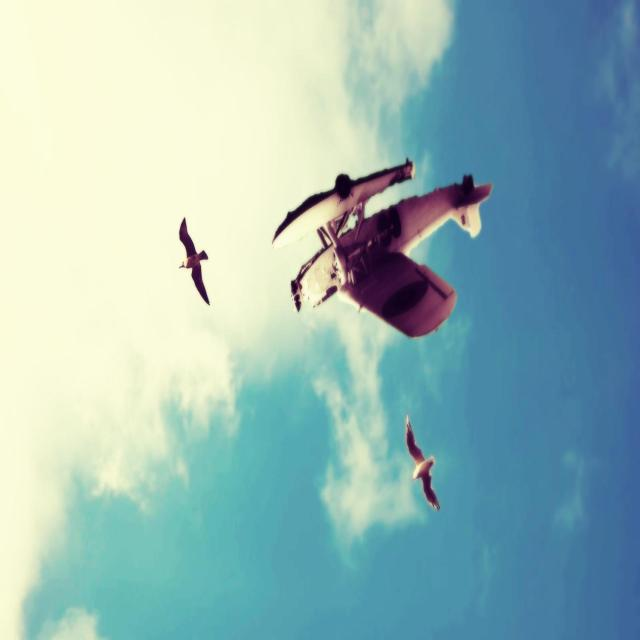airplane: (271, 156, 493, 338)
